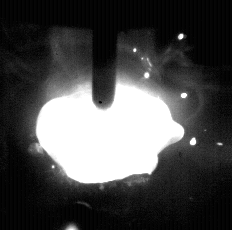arame: (92, 0, 117, 109)
poca: (35, 0, 181, 230)
